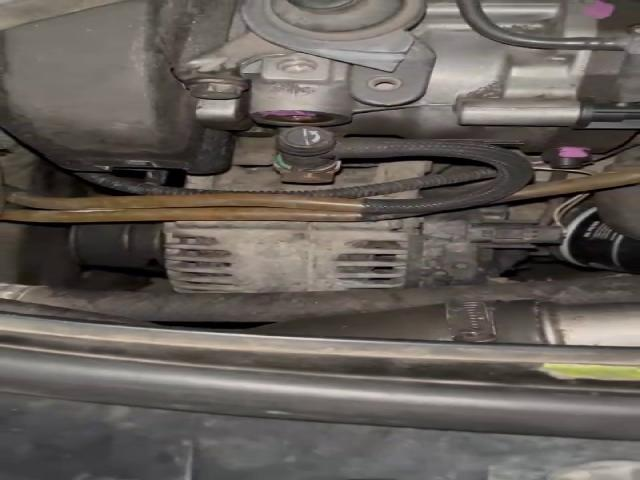alternator: (163, 218, 420, 292)
high_pressure_pump: (241, 0, 640, 166), (481, 0, 639, 37)
